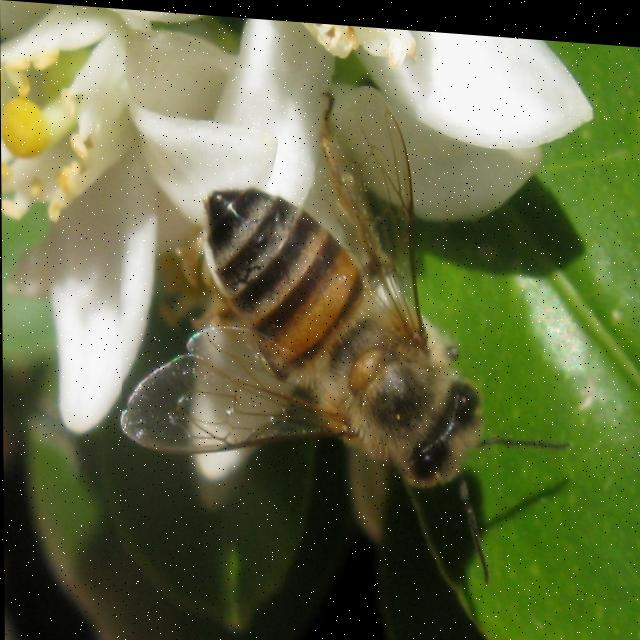Apis-mellifera-scutellata: (120, 57, 551, 618)
